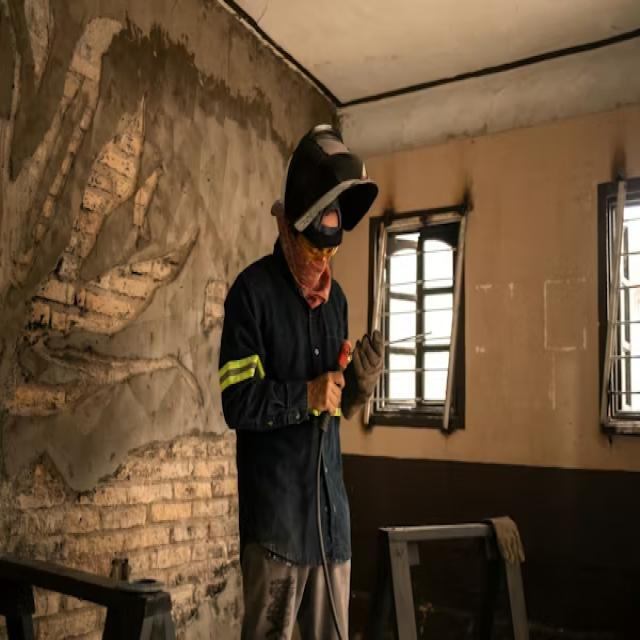helmet_lifted: (277, 118, 386, 317)
